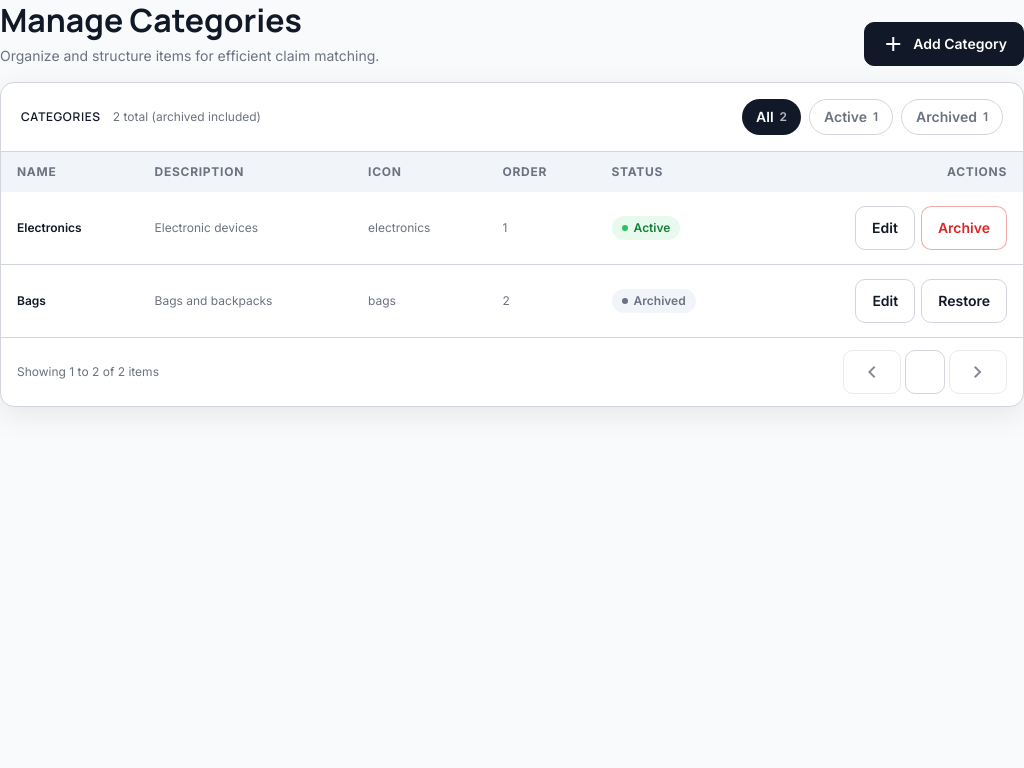
Test: Categories › opens create modal when 'Add Category' is clicked
Check: the text "Electronics" is shown, box [1,192,139,264]
Click the button "Add Category".
click(944, 44)  # box [864,22,1023,66]
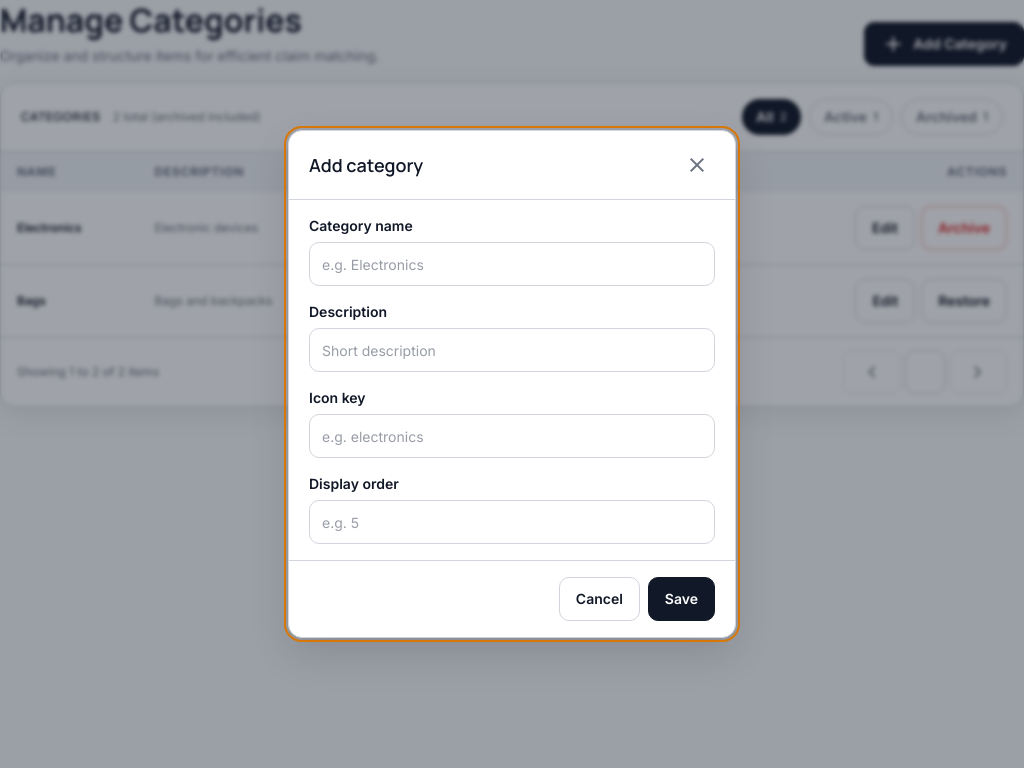
Check: the dialog is shown, box [288,130,736,638]
Check: the heading "Add category" is shown, box [309,152,423,178]
